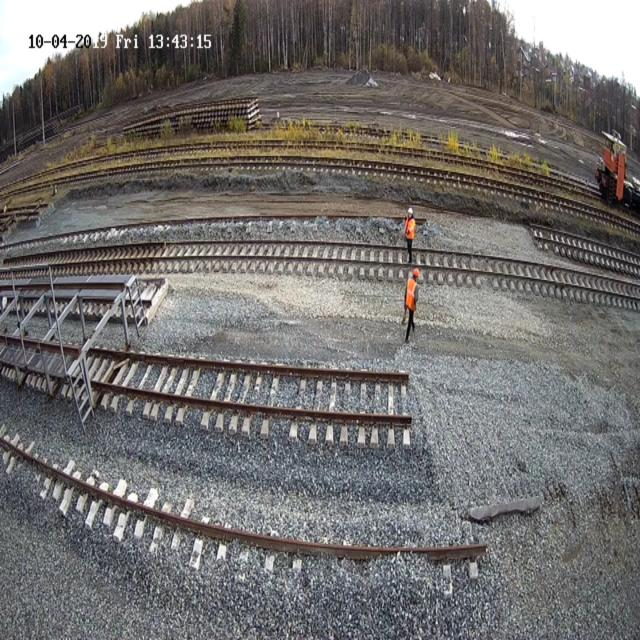Helmet: (413, 268, 419, 277), (407, 208, 413, 215)
Person: (402, 268, 420, 342), (404, 207, 416, 262)
